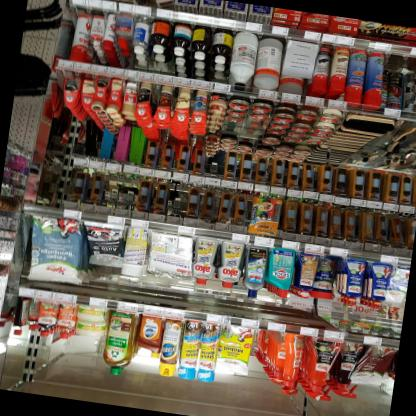empty_space: (245, 327, 283, 391), (112, 176, 139, 218), (162, 183, 188, 225), (69, 117, 93, 157), (98, 173, 117, 216), (84, 122, 104, 159)
